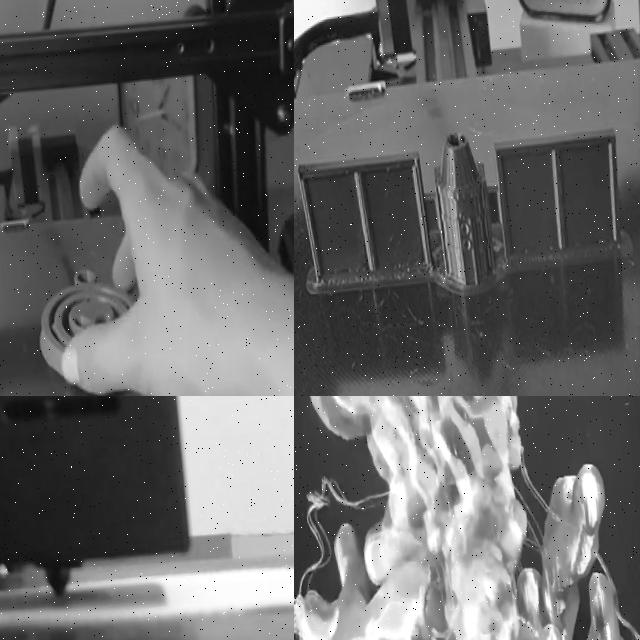spaghetti: (502, 443, 640, 640), (294, 437, 412, 600)
